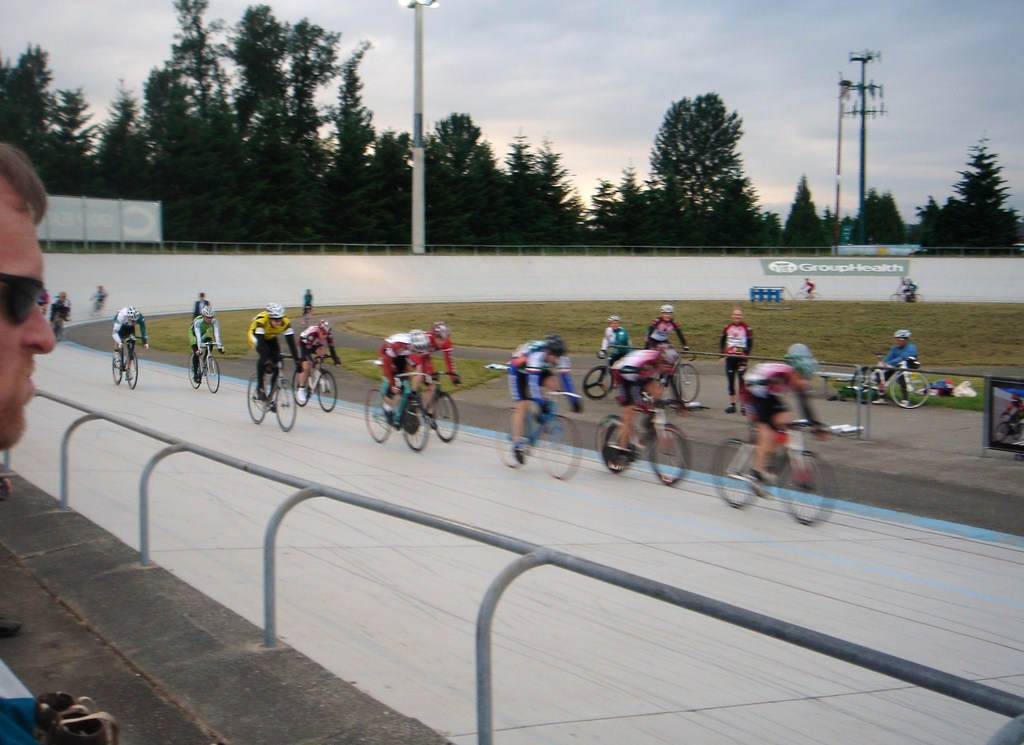Footwear: (745, 465, 774, 482), (111, 345, 125, 370), (872, 388, 887, 405), (381, 402, 390, 426), (423, 410, 433, 430), (380, 401, 392, 416), (515, 443, 522, 464), (294, 385, 303, 401), (257, 387, 268, 400), (321, 380, 331, 393), (873, 398, 888, 405), (297, 388, 305, 400), (126, 368, 134, 379), (113, 352, 121, 362), (726, 404, 733, 414), (739, 404, 747, 412), (900, 400, 908, 407), (191, 377, 200, 382)
